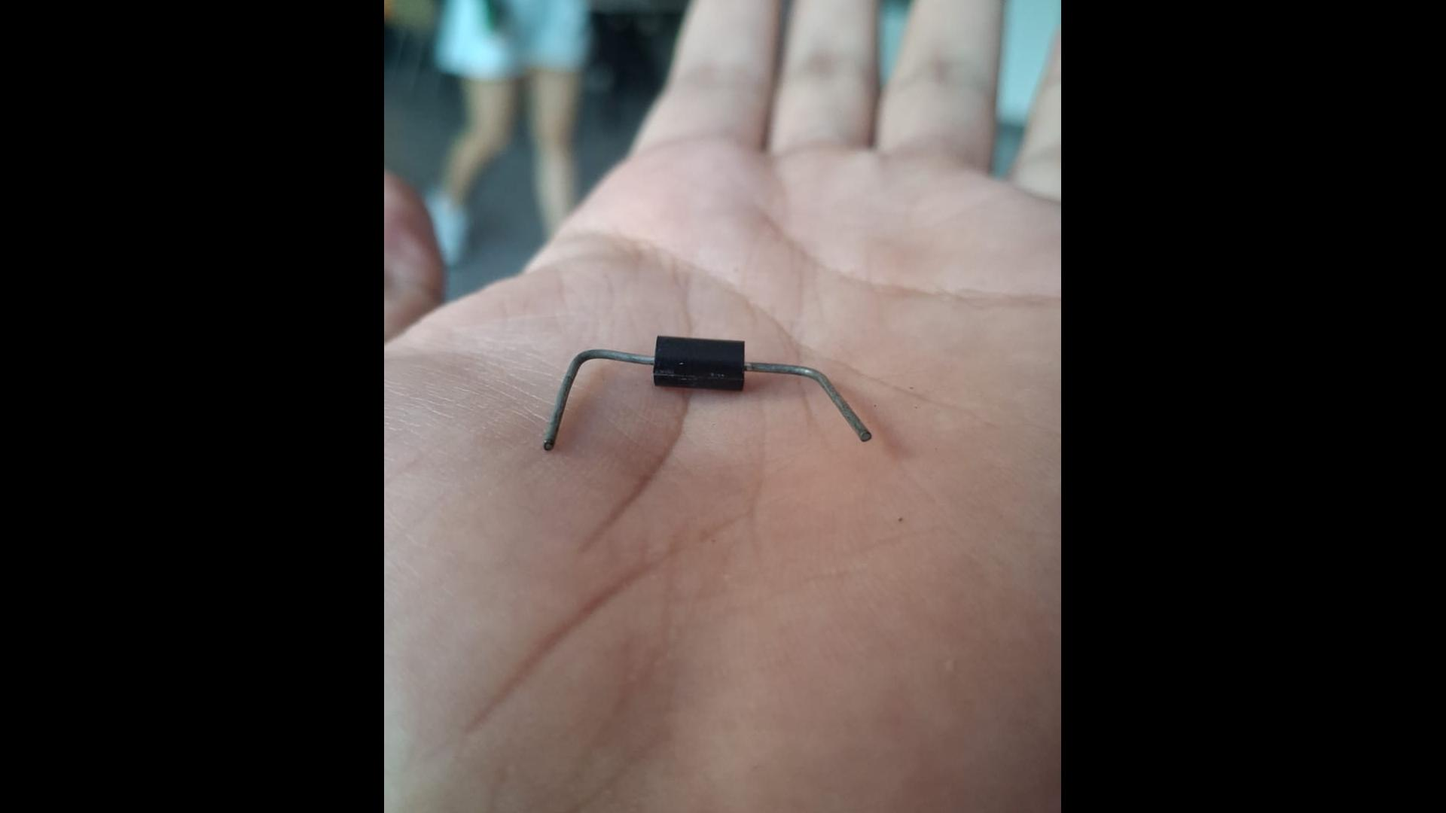Diodo: (543, 335, 872, 451)
